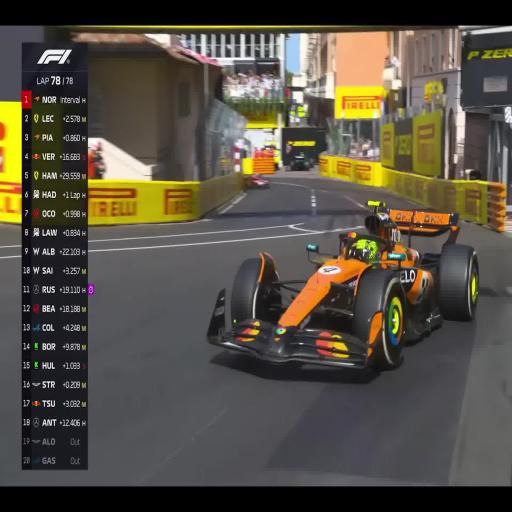f1_car: (207, 201, 478, 369)
